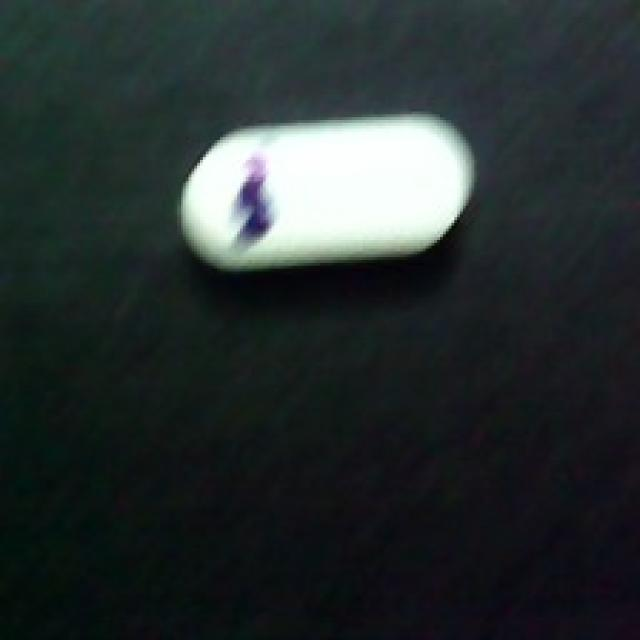defected: (174, 111, 477, 277)
